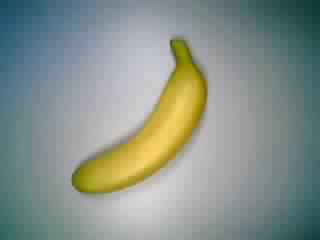banana: (68, 34, 219, 199)
